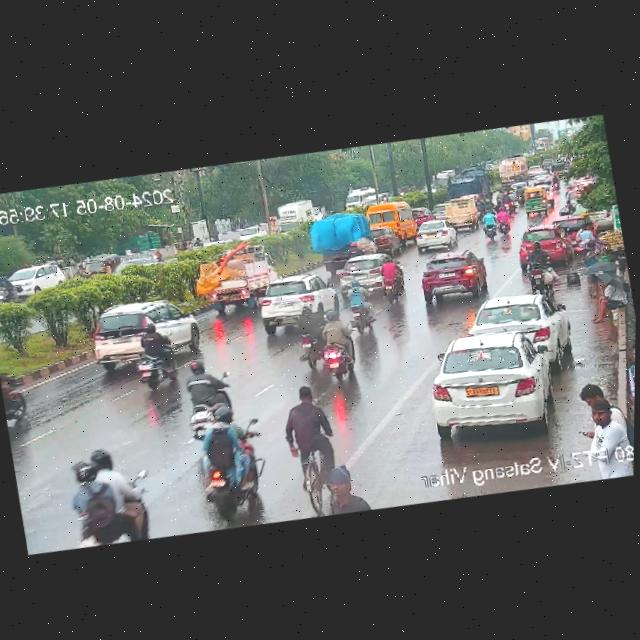bus: (367, 192, 424, 244)
car: (418, 317, 577, 445), (79, 293, 203, 375), (466, 285, 568, 362), (194, 235, 278, 313), (244, 270, 336, 330), (411, 245, 489, 305), (0, 259, 67, 302), (333, 249, 392, 294), (516, 221, 572, 266), (80, 246, 129, 286), (409, 220, 459, 255), (338, 182, 386, 212), (519, 183, 555, 216), (532, 168, 553, 186), (527, 164, 541, 176)
motorcycle: (272, 376, 350, 504), (60, 447, 149, 551), (188, 409, 264, 522), (123, 320, 180, 392), (184, 355, 236, 432), (313, 307, 360, 383), (527, 228, 567, 290), (0, 366, 32, 429), (340, 282, 378, 334), (377, 255, 404, 300), (491, 180, 521, 213), (479, 208, 508, 241), (0, 269, 15, 306), (550, 172, 560, 192)
person: (572, 374, 634, 462), (316, 459, 370, 518), (582, 275, 628, 324), (620, 339, 635, 442), (570, 220, 599, 256), (564, 200, 574, 213)
truck: (313, 208, 373, 269), (446, 162, 494, 202), (274, 196, 316, 235), (445, 194, 479, 233), (498, 155, 530, 186)
